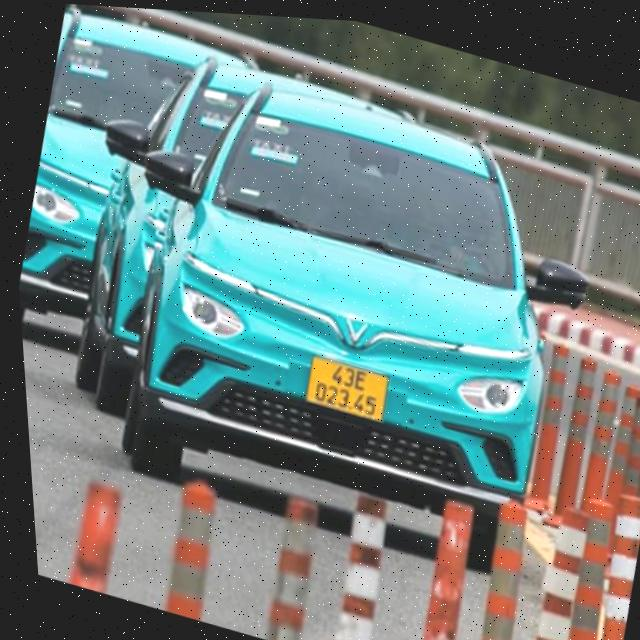car: (18, 12, 640, 604)
plate: (291, 344, 402, 432)
